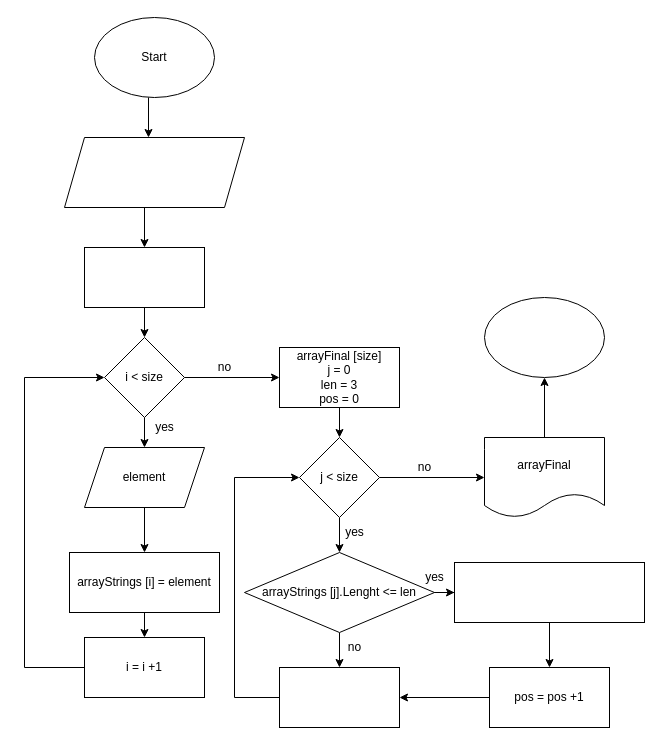
Image size: 662x745. Some labels were removed from this diagram. Here are the shapes that lost their labels. From the top down, the centre of each, then its label:
At point 154,172: "Input size of original array".
At point 144,277: "arrayStrings [size] i = 0".
At point 544,337: "End".
At point 549,592: "arrayFinal [pos] = arrayStrings [j]".
At point 339,697: "j = j+1".
